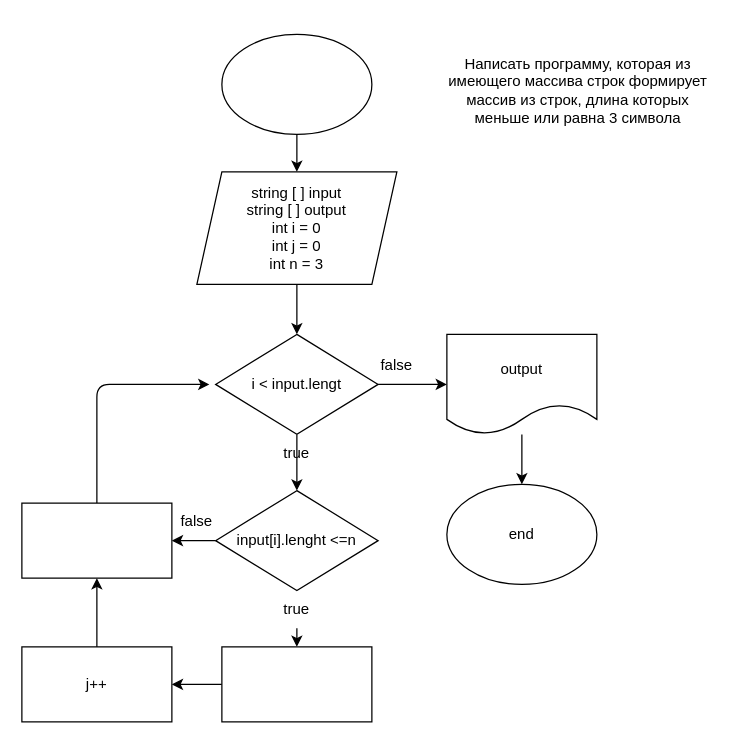
The diagram is 731 pixels wide and 744 high, and some of its shapes have lost their labels. The shapes that lost their labels are listed below. From the top down, each one's box as (x1, y1, x2, y2) in pixels, then its label:
(221, 33, 372, 134): Start
(21, 502, 172, 578): i++
(221, 646, 372, 722): output[j]=input[i]
